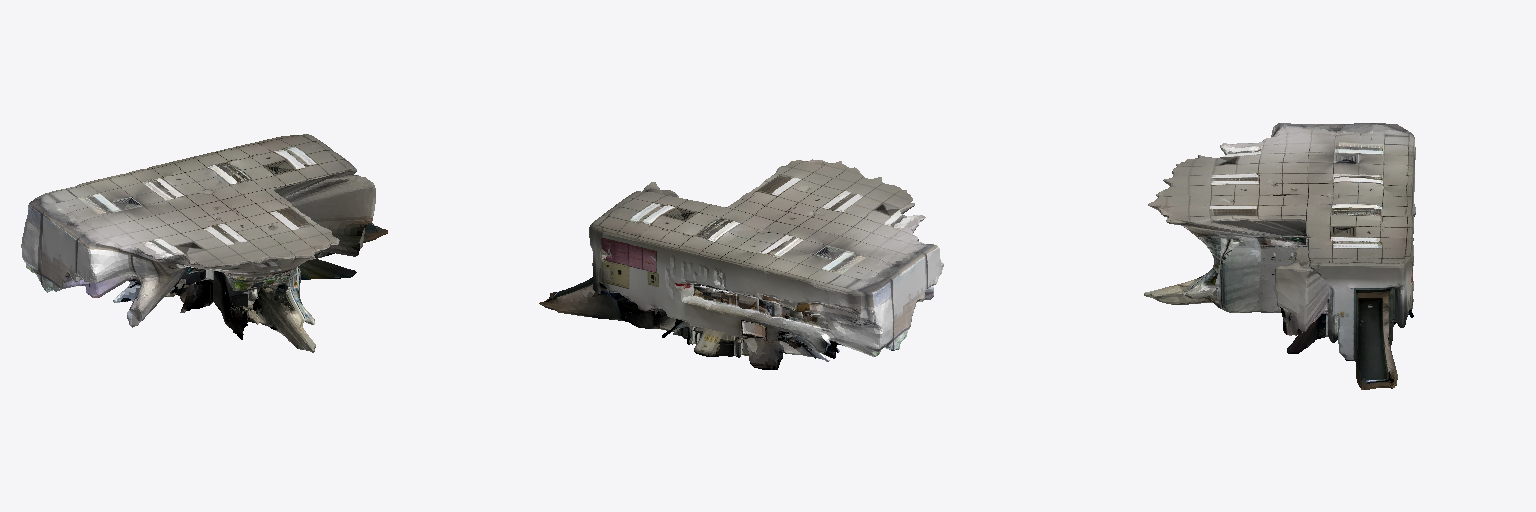
The picture shows the model from 3 angles: view 1: azimuth 30°, elevation 25°; view 2: azimuth 150°, elevation 25°; view 3: azimuth 270°, elevation 25°; orthographic projection.
Bounding box in the file's own units: 10.03 × 2.9 × 6.78.
11 materials, 11 textured.